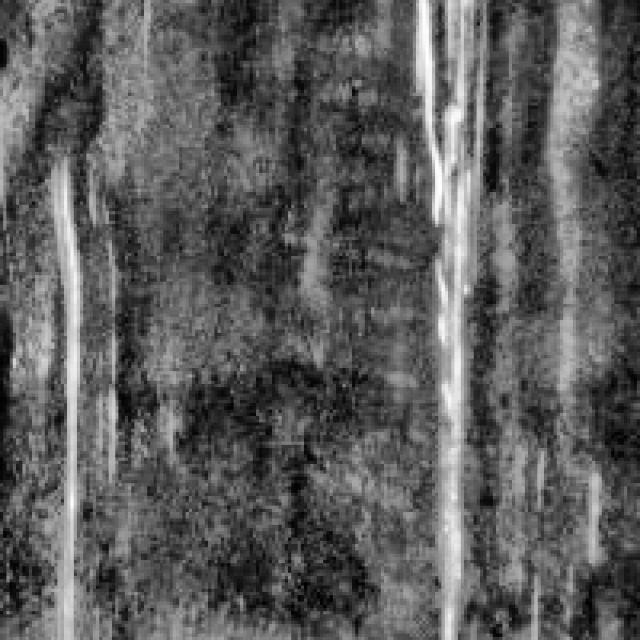Inclusion: (406, 0, 489, 637), (42, 134, 100, 630)
